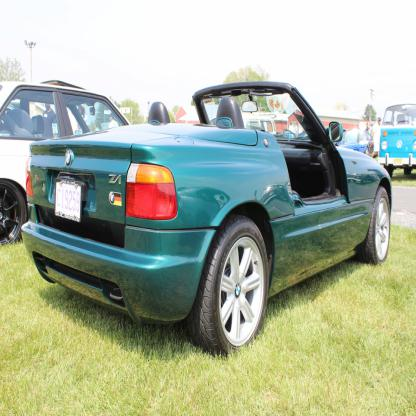Car: (20, 82, 392, 358), (0, 79, 130, 242)
